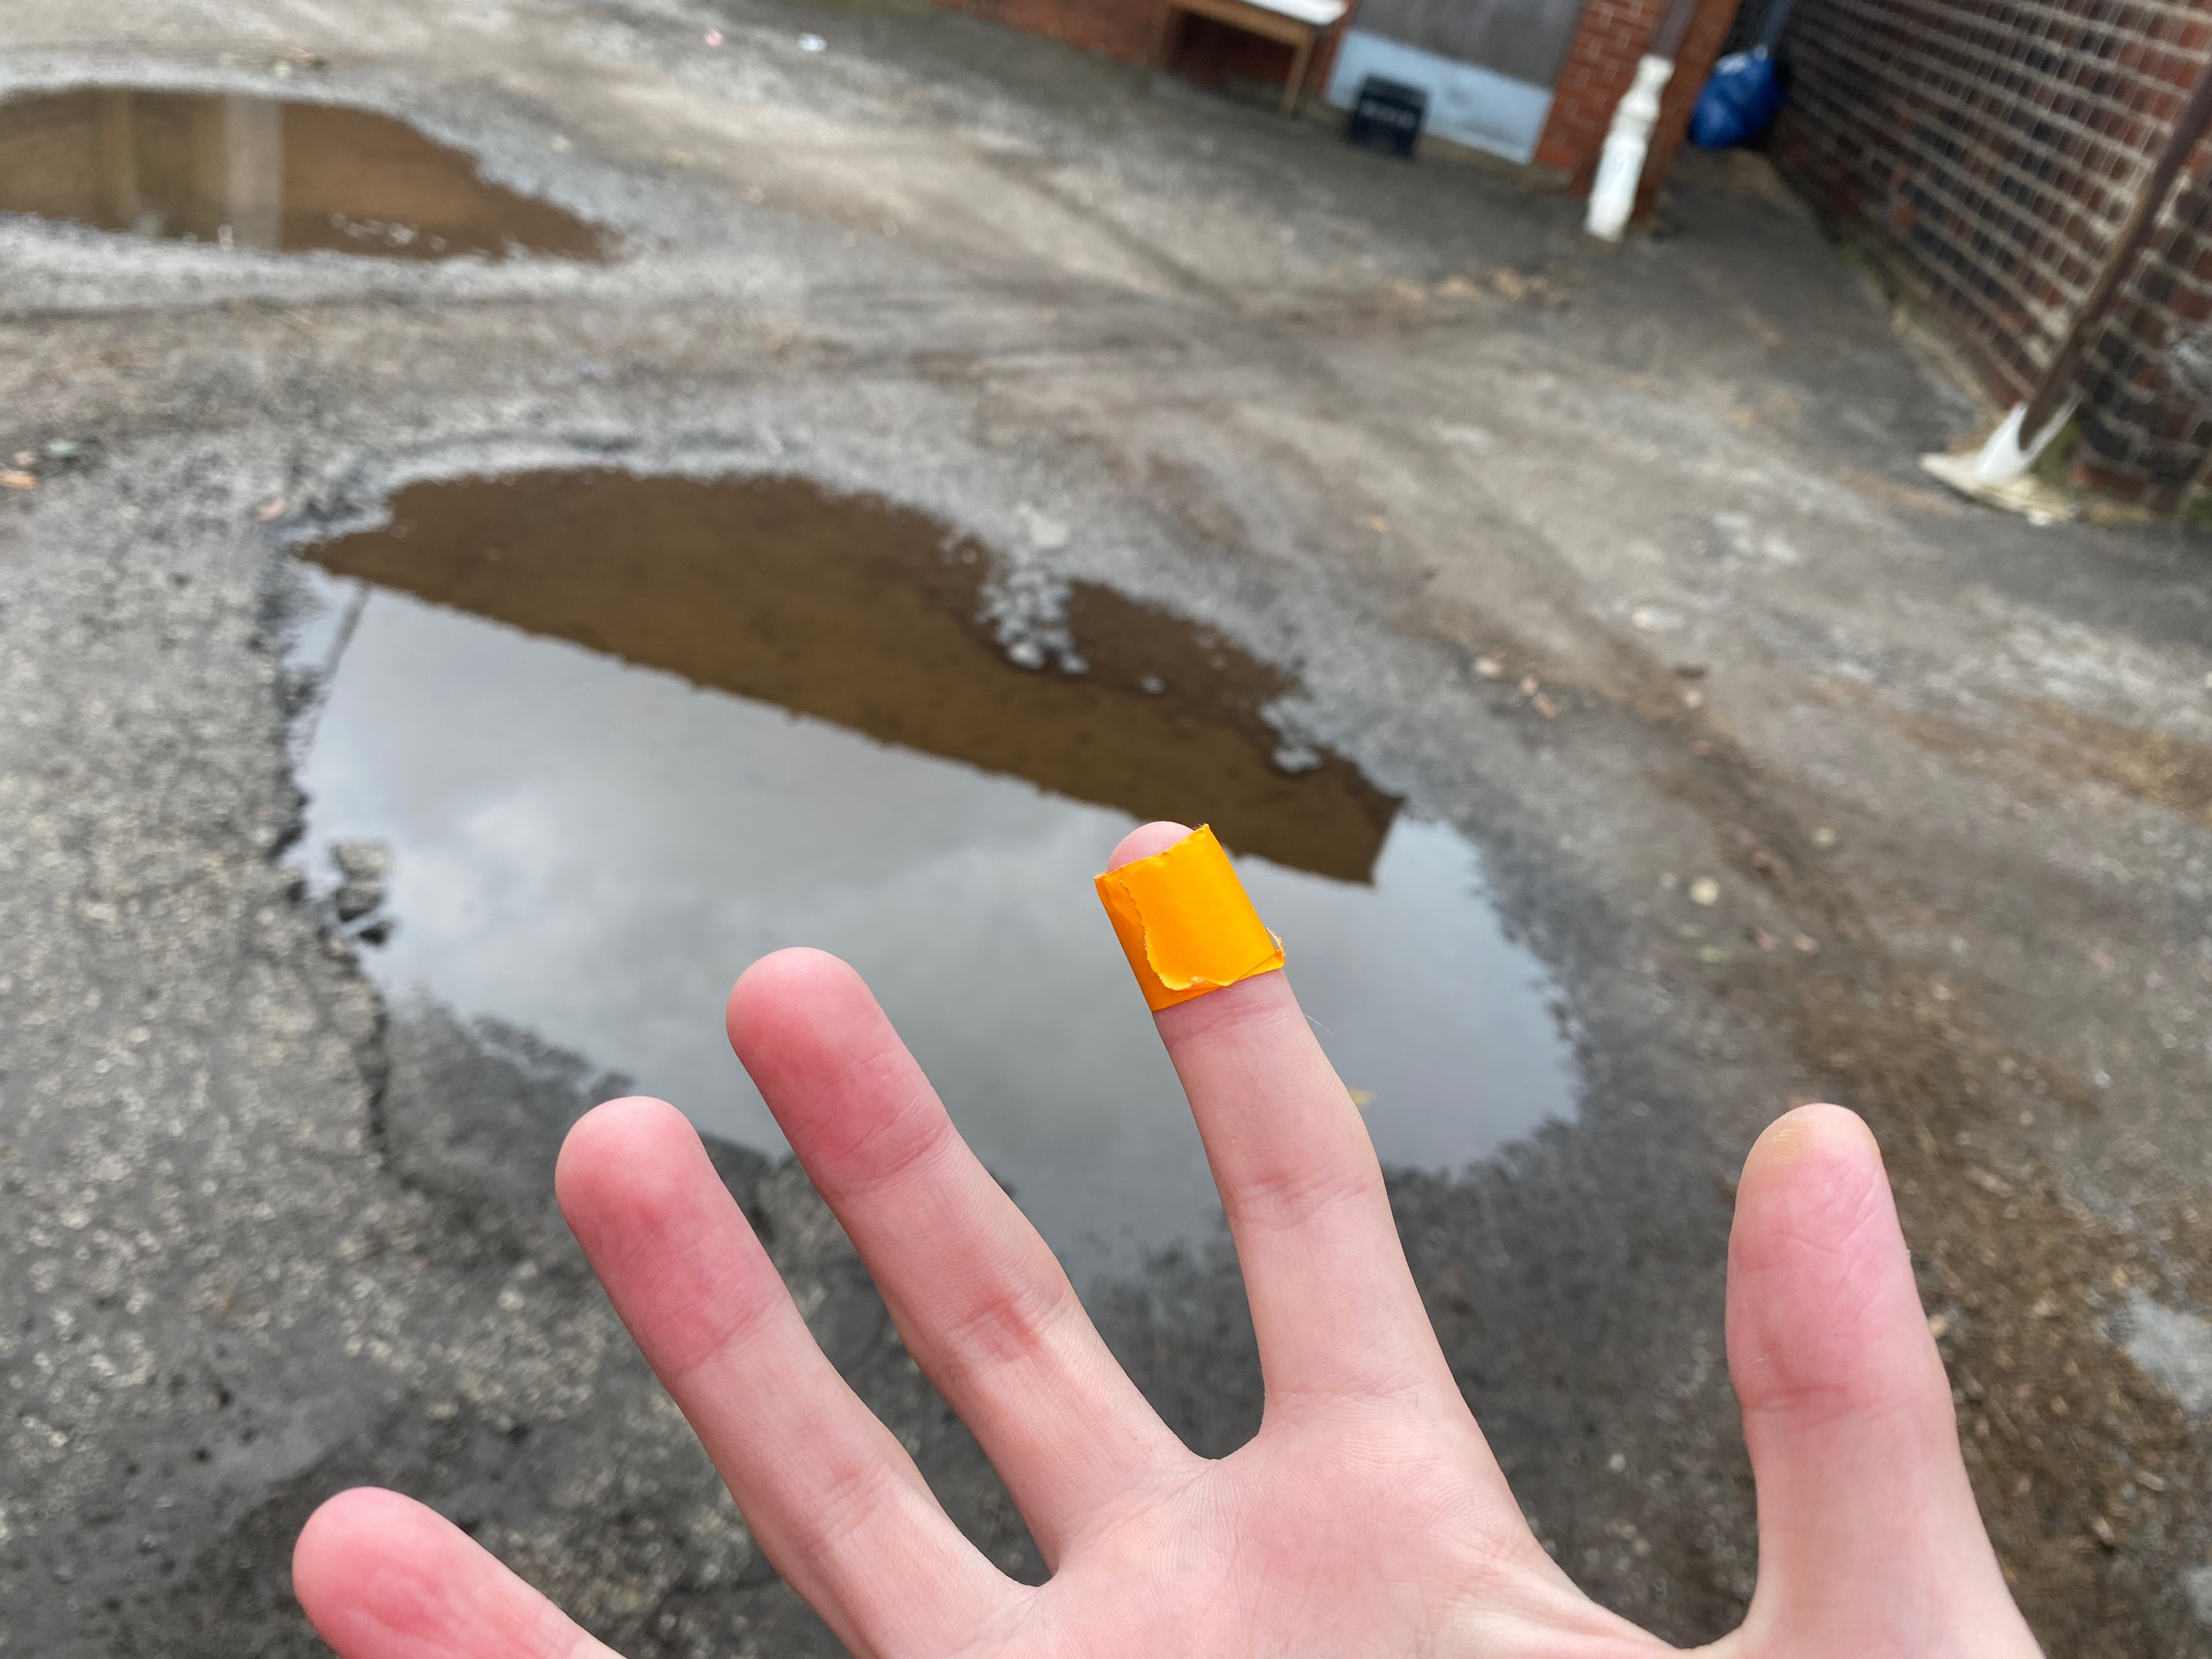fingertip: (1099, 810, 1301, 1009)
